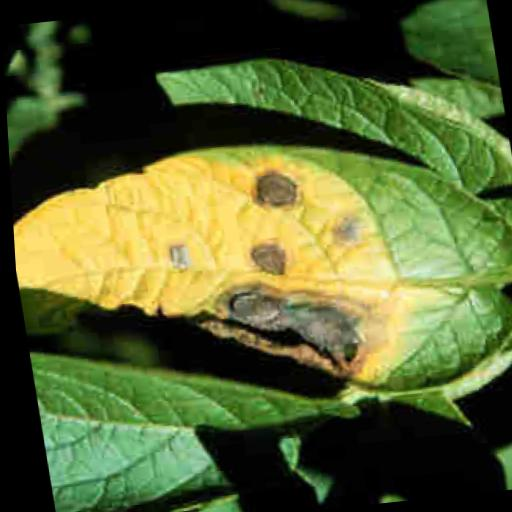Early Blight: (5, 112, 512, 432)
